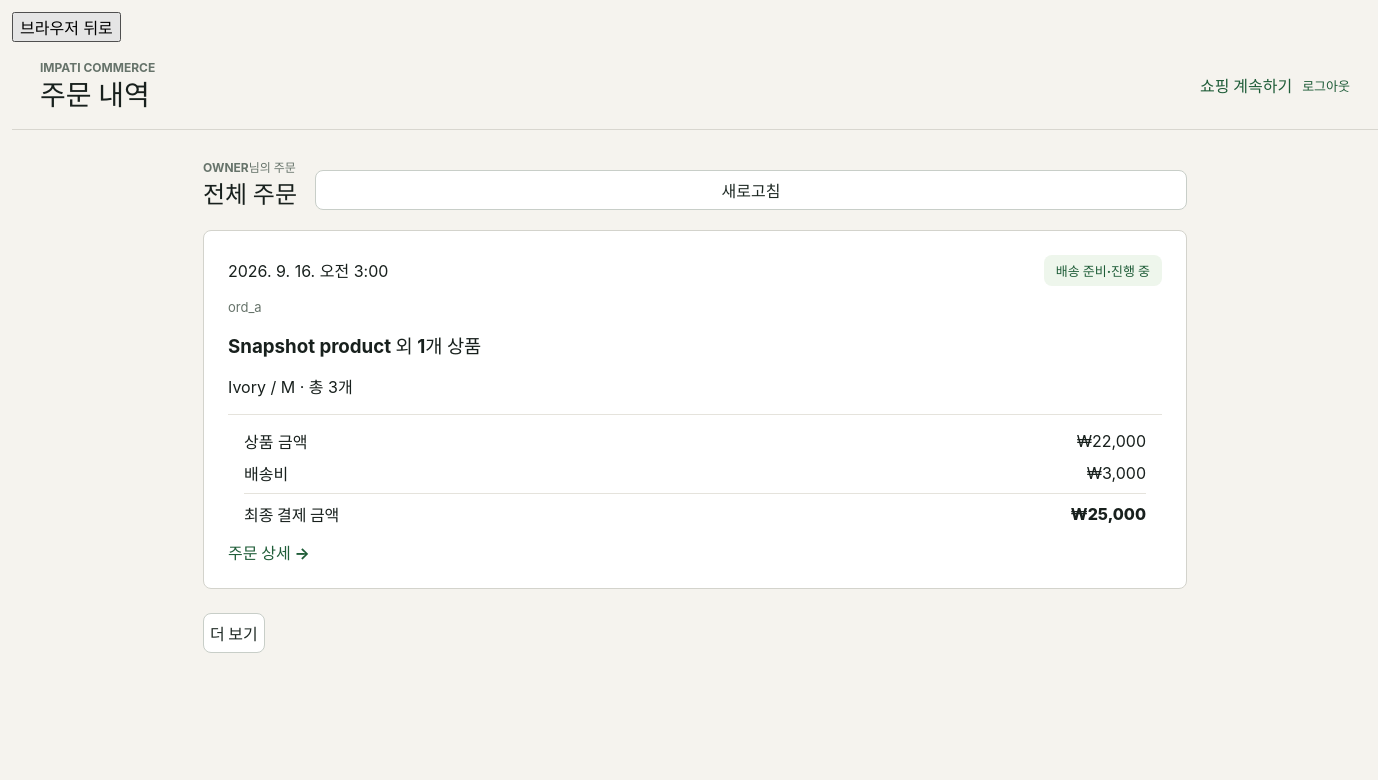
it: shows summaries and appends the next cursor page
Check: the heading "Snapshot product 외 1개 상품" is shown, box x1=228 y1=335 x2=481 y2=358
Check: the text "Ivory / M · 총 3개" is shown, box x1=228 y1=377 x2=353 y2=397
Step 1. Click the button "더 보기" → (234, 633), box x1=203 y1=613 x2=265 y2=653
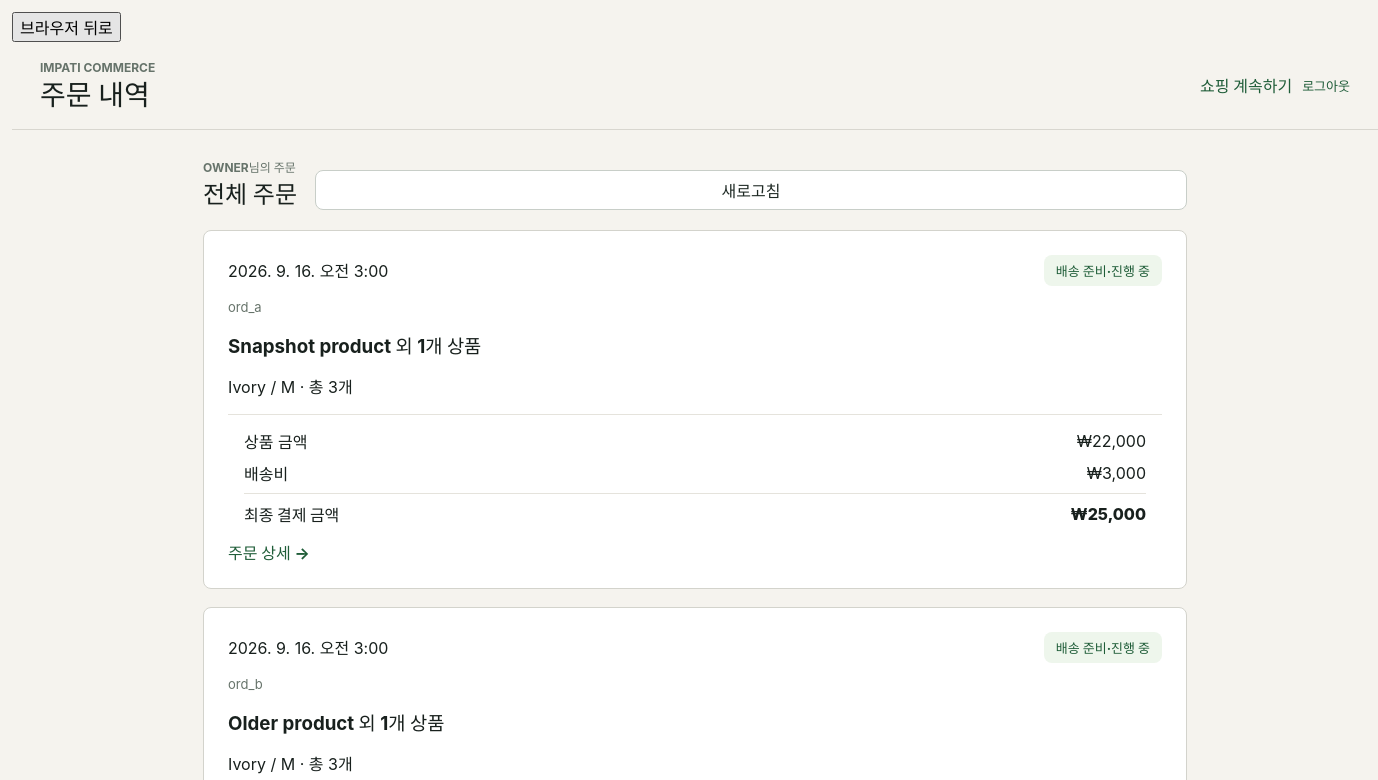
Check: the heading "Older product 외 1개 상품" is shown, box x1=228 y1=712 x2=444 y2=735
Check: the button "더 보기" is gone
